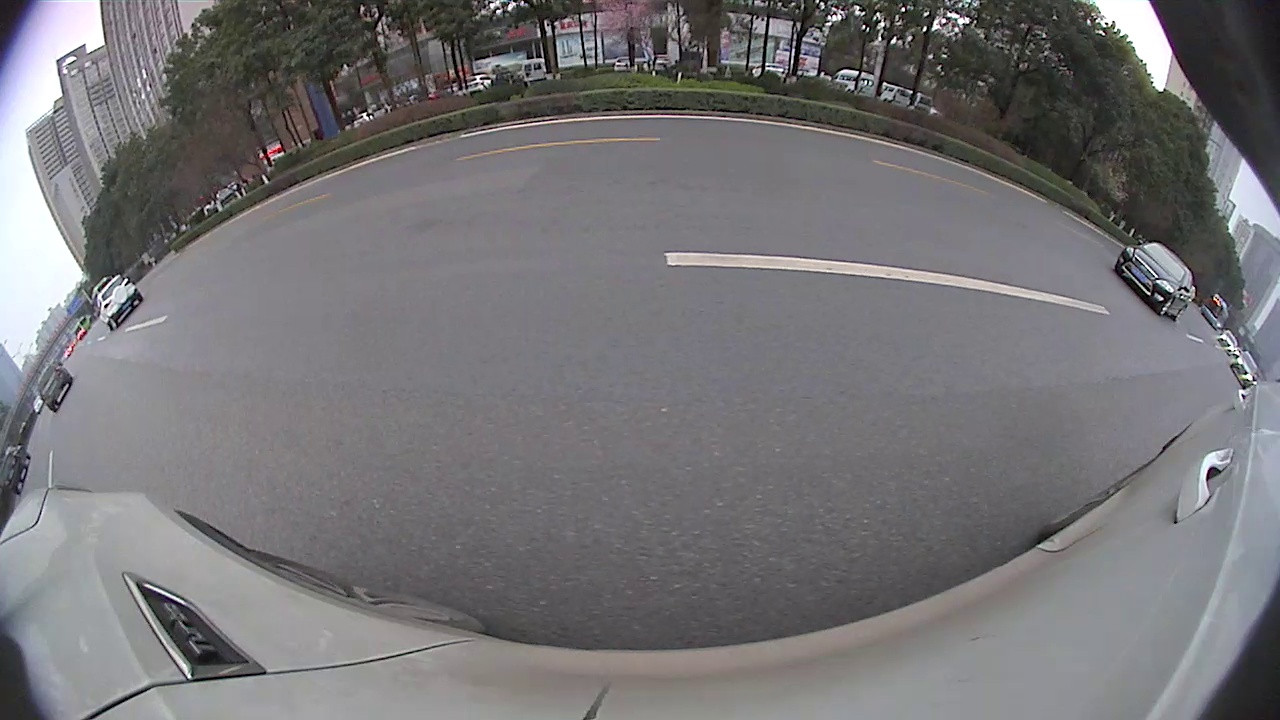bus: (799, 136, 942, 201), (693, 118, 799, 202)
car: (819, 154, 1107, 310), (982, 161, 1161, 307), (602, 154, 669, 200), (547, 162, 593, 194)
front: (822, 198, 846, 236)
rear: (939, 227, 994, 298)
